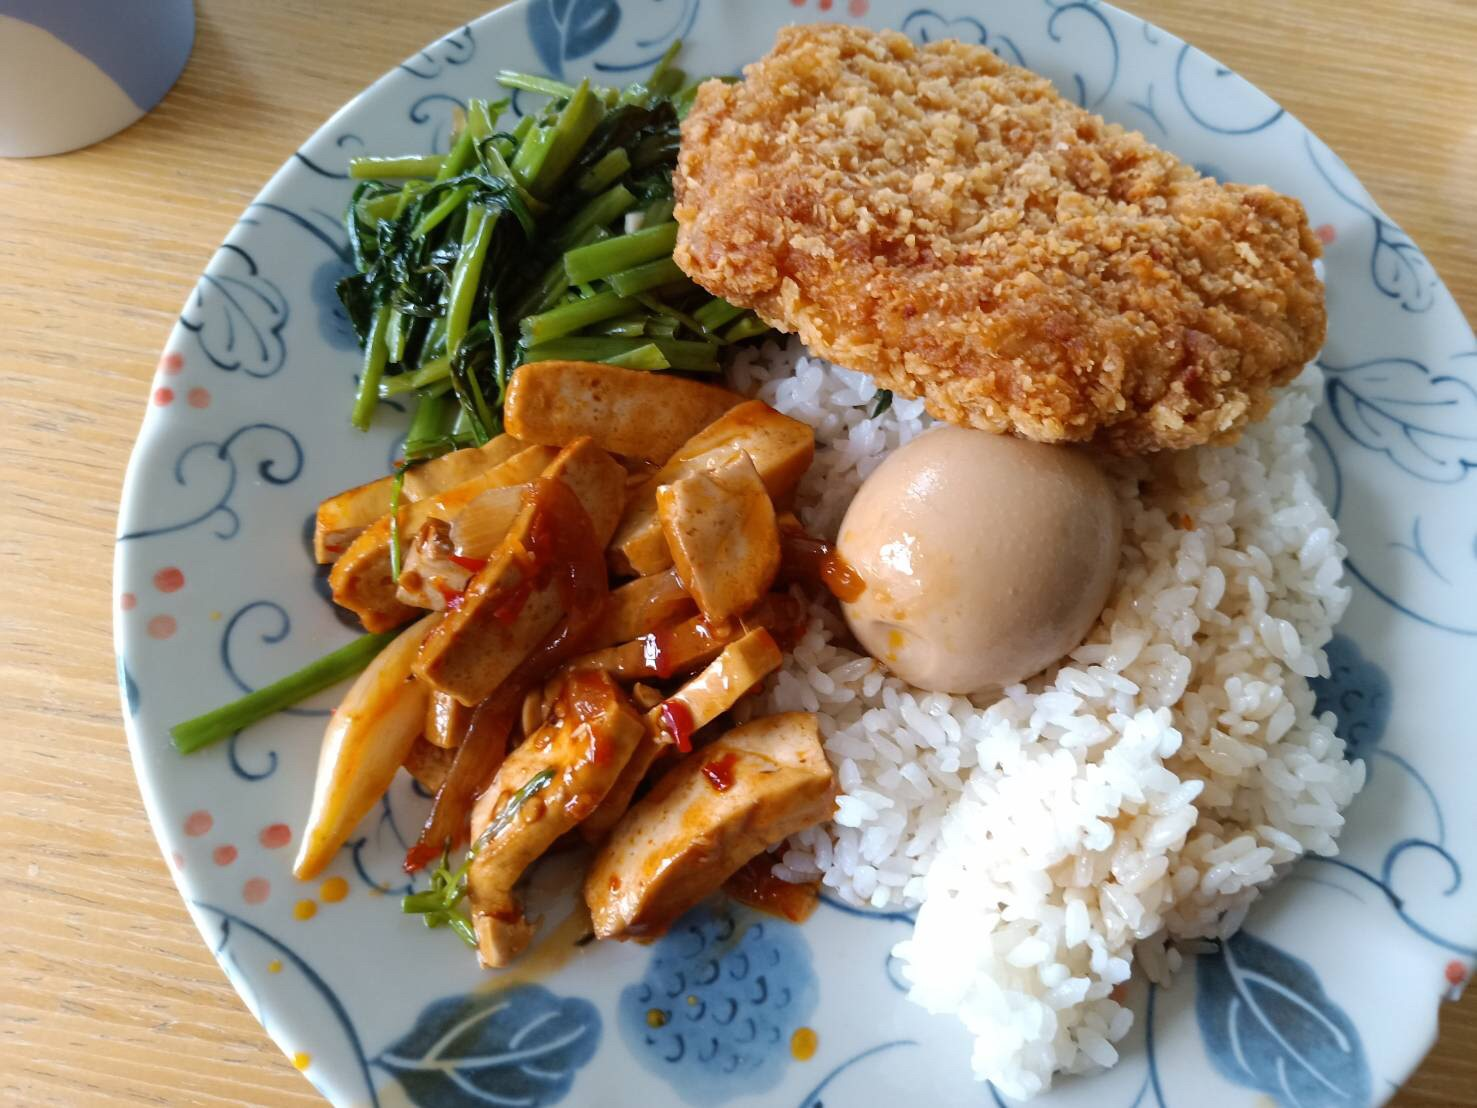fried_chicken: (673, 15, 1333, 447)
rice: (802, 652, 1322, 1060)
water_spinach: (352, 86, 674, 383)
